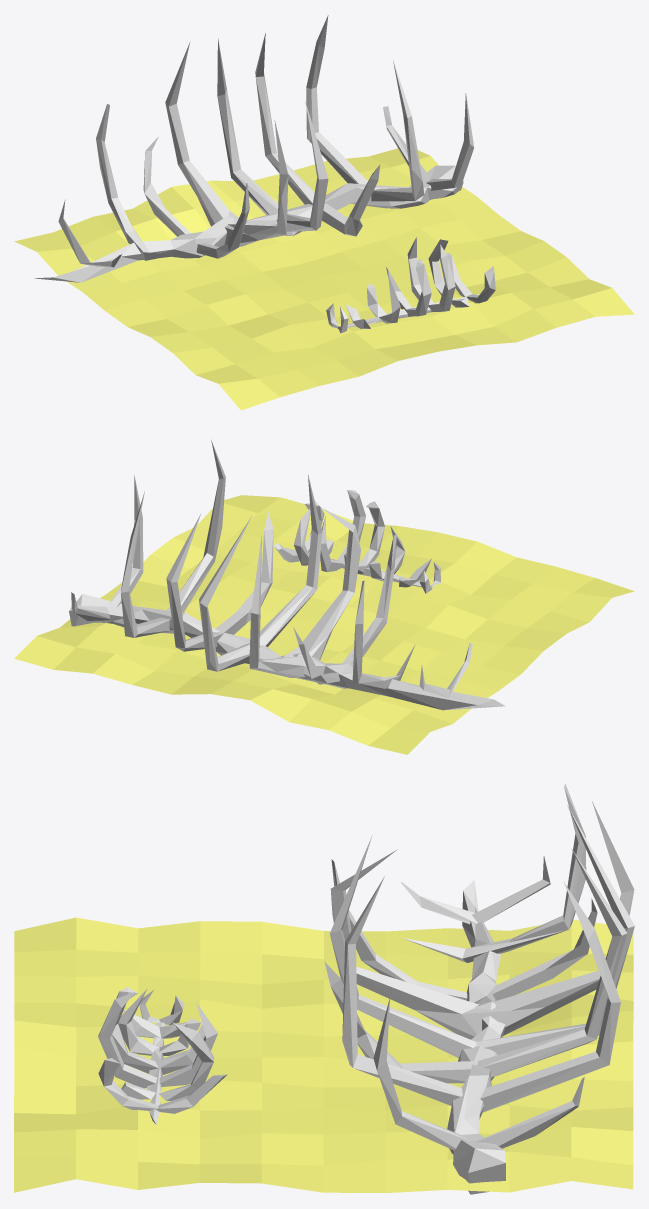
File: low_poly_skeleton_pack.glb
The picture shows the model from 3 angles, top to bottom: view 1: azimuth 30°, elevation 25°; view 2: azimuth 150°, elevation 25°; view 3: azimuth 270°, elevation 25°; orthographic projection. The views are drawn at different scales.
Parts seen in each view (by area): view 1: Plane.006_2, Skeleton2_1, Skeleton_0; view 2: Plane.006_2, Skeleton2_1, Skeleton_0; view 3: Plane.006_2, Skeleton2_1, Skeleton_0.
Boxes of the visible parts, box(x1,y1,x2,y2) form: Plane.006_2: box(14, 148, 634, 410); Skeleton2_1: box(34, 15, 474, 282); Skeleton_0: box(326, 237, 495, 333); Plane.006_2: box(14, 495, 634, 754); Skeleton2_1: box(69, 440, 505, 710); Skeleton_0: box(274, 490, 440, 593); Plane.006_2: box(14, 917, 633, 1193); Skeleton2_1: box(324, 783, 634, 1194); Skeleton_0: box(98, 987, 227, 1124).
Size of the model in its own units: 22.04 by 9.13 by 20.06.
